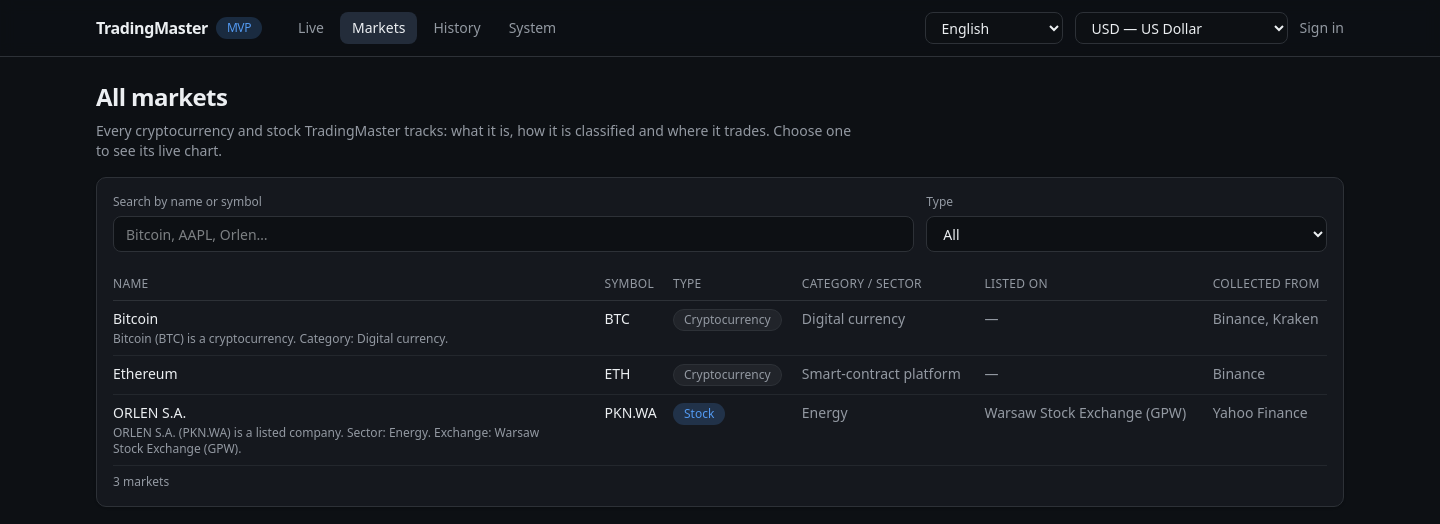
Scenario: markets directory › filters by type
Expected: the table is shown, [113,268,1327,466]
Select "Stocks" in the dropdown labelled "Type" at (1127, 234), box [926,216,1327,252]
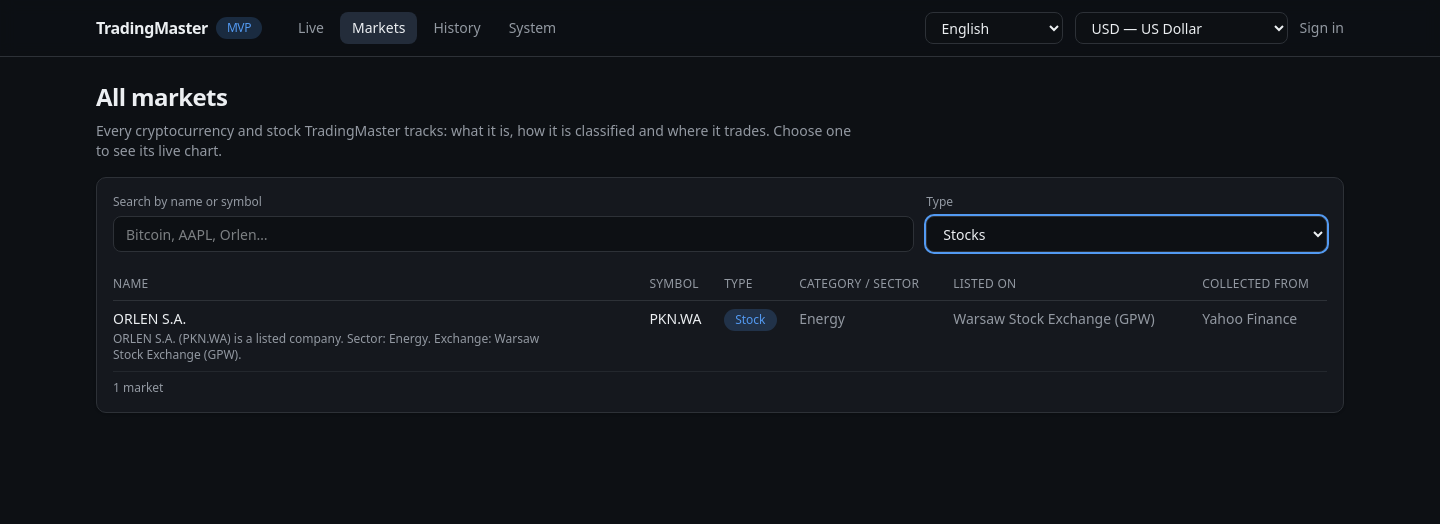
Now the links read "ORLEN S.A.", in this order, box [113,309,186,328]
